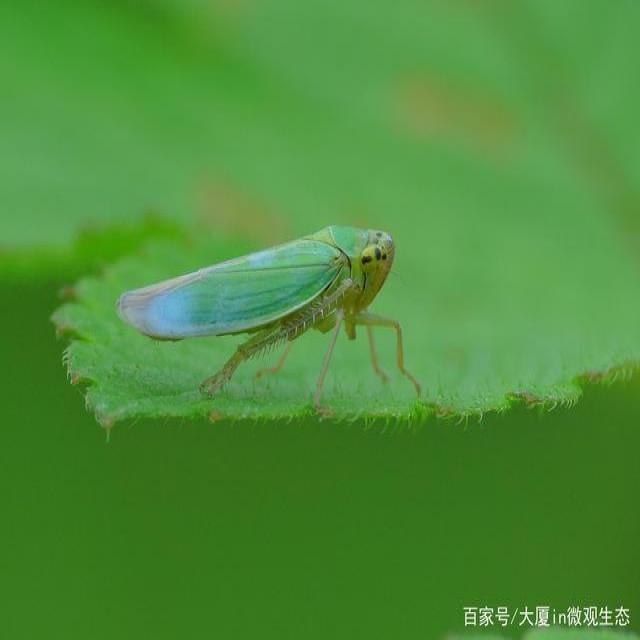Yechan: (114, 215, 409, 384)
